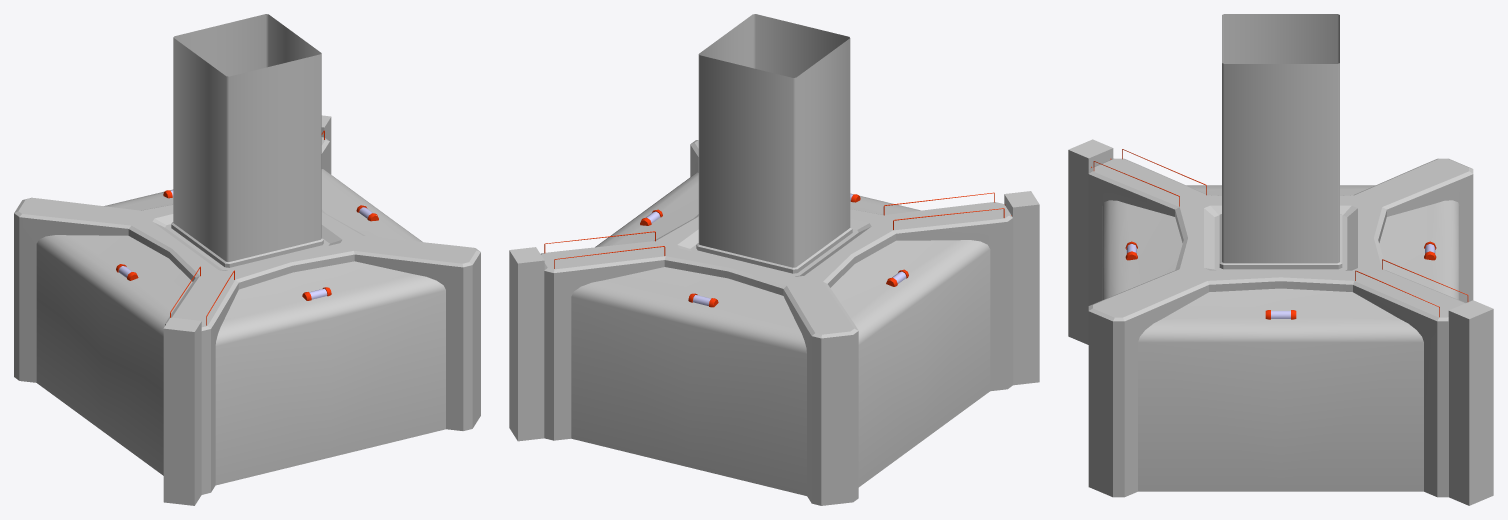
Rendered from small-VTOL-hangar.fbx.
3 views of the same model, side by side, from view 1: azimuth 30°, elevation 25°; view 2: azimuth 150°, elevation 25°; view 3: azimuth 270°, elevation 25° (orthographic). The views are drawn at different scales.
Visible parts, largest first — view 1: small-VTOL-hangar, docking-space, ladder-trigger_001; view 2: small-VTOL-hangar, docking-space, ladder-trigger, ladder-trigger_001; view 3: small-VTOL-hangar, docking-space, ladder-trigger, ladder-trigger_001.
Boxes of the visible parts, left/top/right/bottom form: small-VTOL-hangar: left=14, top=137, right=480, bottom=494; docking-space: left=173, top=14, right=321, bottom=261; ladder-trigger_001: left=163, top=317, right=201, bottom=505; small-VTOL-hangar: left=540, top=140, right=1013, bottom=505; docking-space: left=698, top=14, right=850, bottom=266; ladder-trigger: left=509, top=247, right=544, bottom=441; ladder-trigger_001: left=1004, top=191, right=1039, bottom=385; small-VTOL-hangar: left=1088, top=158, right=1473, bottom=497; docking-space: left=1222, top=14, right=1339, bottom=262; ladder-trigger: left=1448, top=300, right=1493, bottom=505; ladder-trigger_001: left=1068, top=139, right=1113, bottom=344.
Size of what is drawn, in the model's own units: 10.86 by 10.61 by 10.85.
